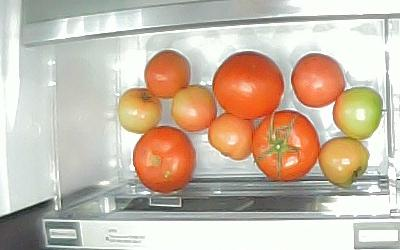tomato: (213, 51, 284, 119), (252, 110, 320, 181), (133, 126, 195, 192), (291, 54, 345, 108), (318, 137, 371, 189), (333, 87, 383, 140), (208, 113, 255, 160), (145, 51, 191, 99), (171, 85, 217, 133), (118, 88, 163, 134)
